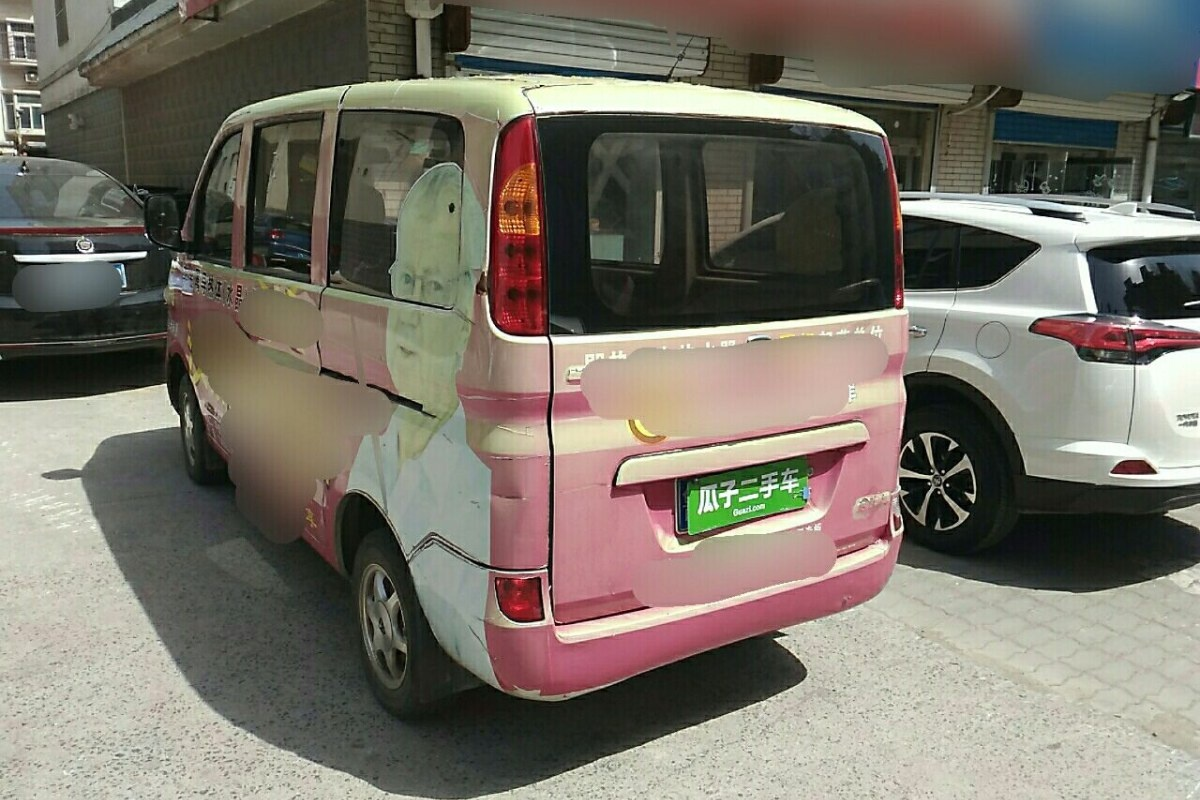minibus: (151, 59, 911, 709)
